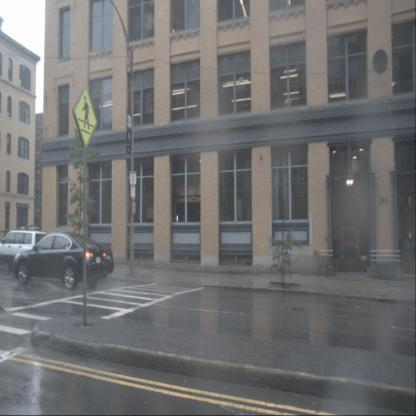vehicle-car: (12, 233, 108, 291), (0, 230, 50, 272)
